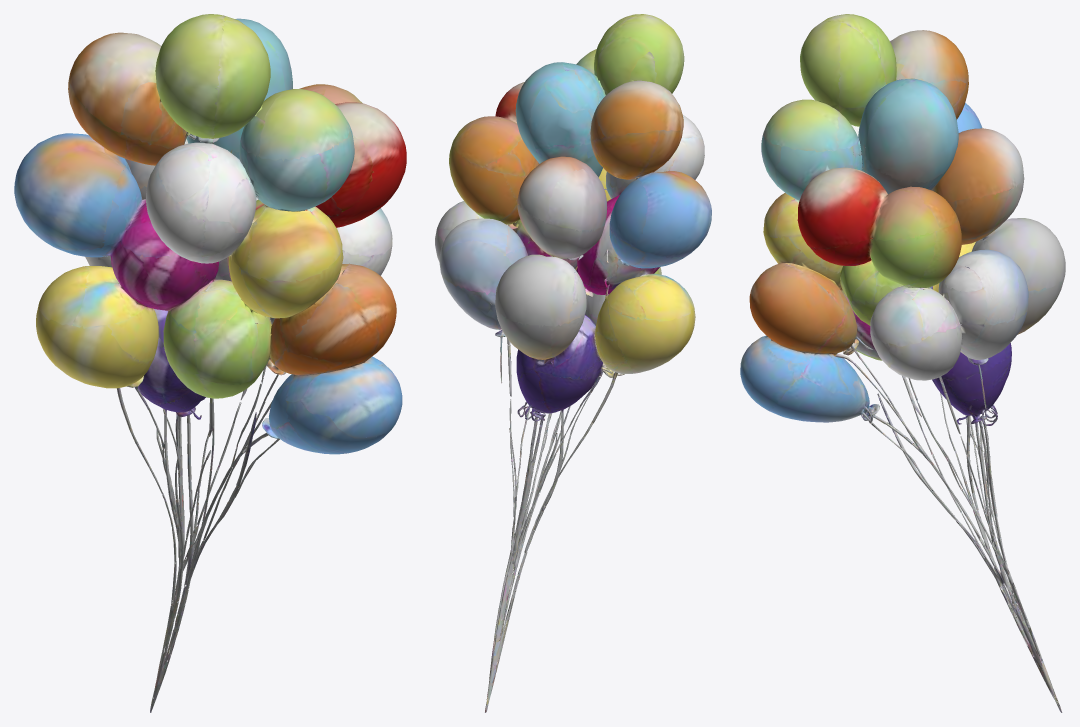
The picture shows the model from 3 angles, left to right: view 1: azimuth 30°, elevation 25°; view 2: azimuth 150°, elevation 25°; view 3: azimuth 270°, elevation 25°; orthographic projection. The views are drawn at different scales.
Parts seen in each view (by area): view 1: Mesh; view 2: Mesh; view 3: Mesh.
Part boxes in pixels (<box>): Mesh: <box>14,14,406,712</box>; Mesh: <box>435,14,711,712</box>; Mesh: <box>740,14,1065,712</box>.
Bounding box in the file's own units: 0.835 × 1.83 × 0.8097.
Materials: 1 (1 with a texture image).
